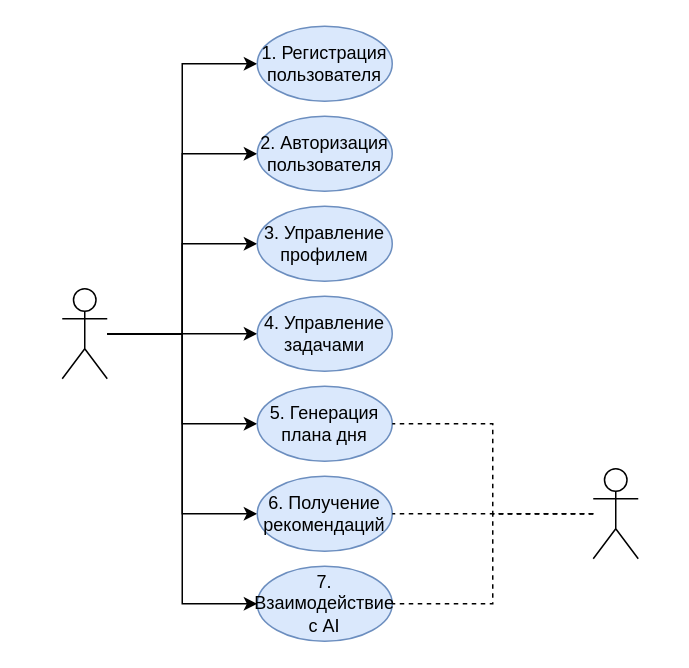
This 689x668 diagram has some shape labels left out. The shapes that lost their labels are listed below. From the top down, each one's box as (x1, y1, x2, y2) in pixels, then its label:
(61, 287, 107, 379): Пользователь
(592, 467, 638, 559): AI - Сервис
